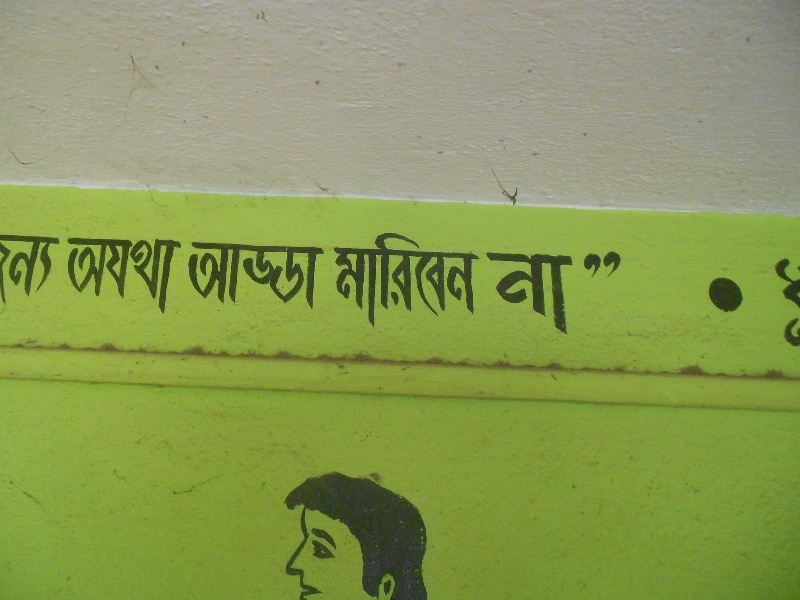text: (465, 232, 481, 329), (337, 232, 352, 329), (353, 232, 368, 329), (369, 232, 384, 329), (385, 232, 400, 329), (401, 232, 416, 329), (417, 232, 432, 329), (433, 232, 448, 329), (449, 232, 464, 329), (497, 251, 512, 336), (513, 251, 528, 336), (529, 251, 544, 336), (545, 251, 560, 336), (561, 251, 576, 336), (785, 260, 799, 350), (81, 238, 96, 314), (97, 238, 112, 314), (113, 238, 128, 314), (129, 238, 144, 314), (145, 238, 160, 314), (161, 238, 176, 314), (193, 239, 208, 313), (209, 239, 224, 313), (225, 239, 240, 313), (241, 239, 256, 313), (257, 239, 272, 313), (273, 239, 288, 313), (289, 239, 304, 313), (305, 239, 320, 313), (17, 233, 32, 303), (33, 233, 48, 303), (2, 233, 16, 303), (68, 238, 80, 314), (774, 260, 784, 350), (486, 251, 496, 336), (49, 233, 61, 303), (577, 240, 592, 286), (593, 240, 608, 286), (705, 275, 720, 320), (721, 275, 736, 320), (609, 240, 622, 286), (177, 238, 183, 314), (321, 239, 326, 313), (737, 275, 745, 320), (333, 232, 336, 329), (189, 239, 192, 313), (574, 240, 576, 286)
